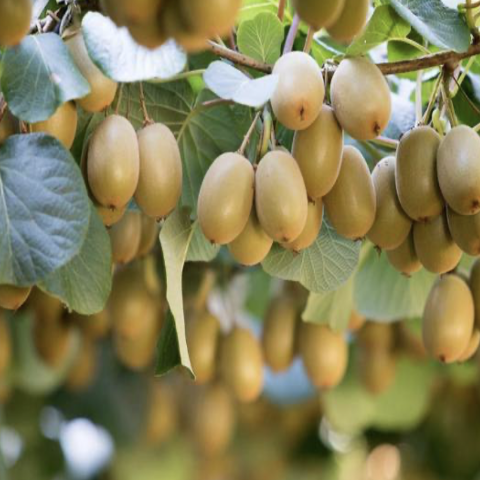kiwi: (390, 115, 458, 241), (195, 128, 261, 255), (124, 113, 191, 222), (329, 51, 397, 150), (244, 140, 309, 241), (420, 265, 479, 369), (86, 108, 139, 219)
